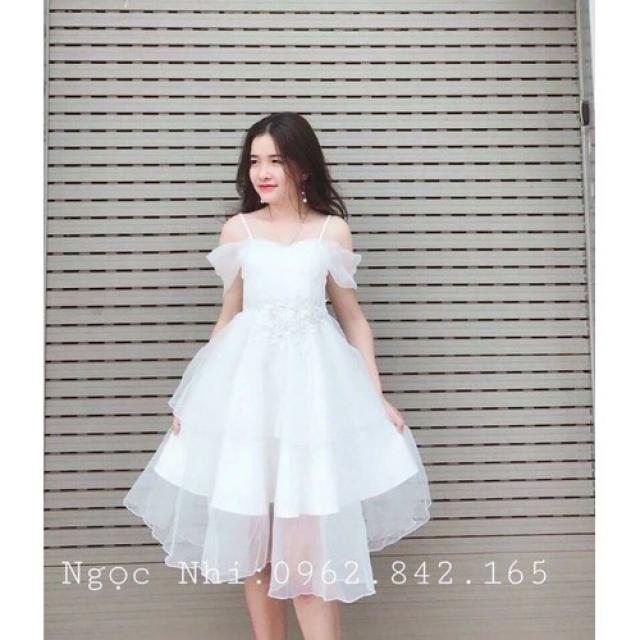clothes: (126, 212, 432, 602)
